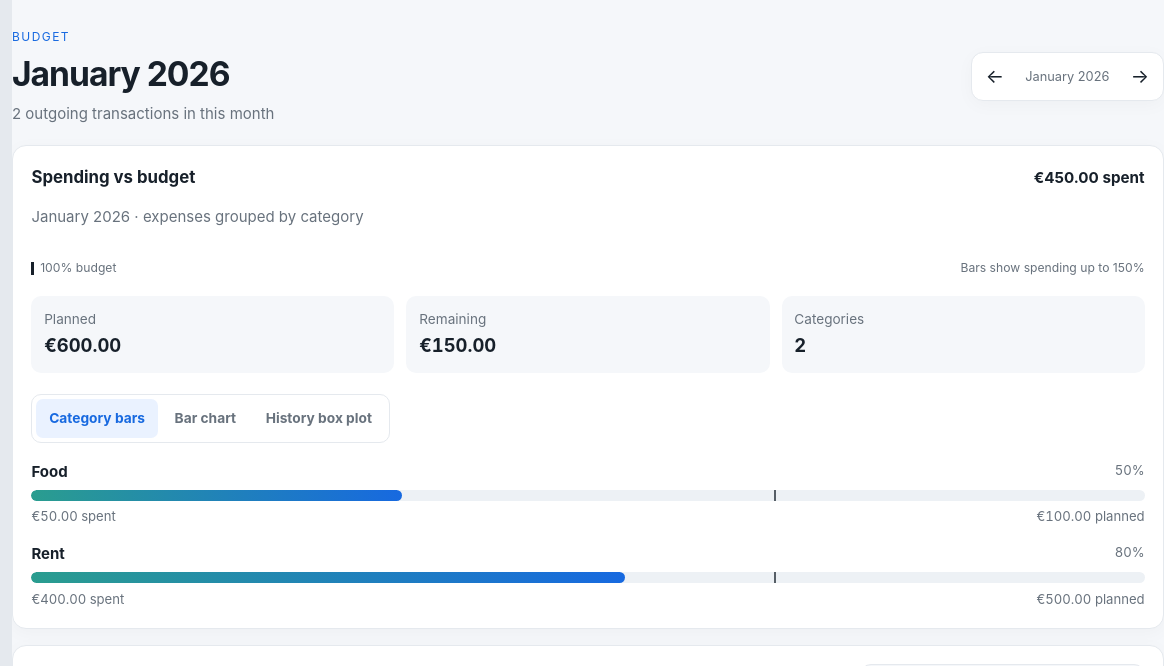
plan tab › can move to a future month without imported transactions
Click the button named "Next plan month". click: [1140, 77]
box: [1122,59,1157,94]
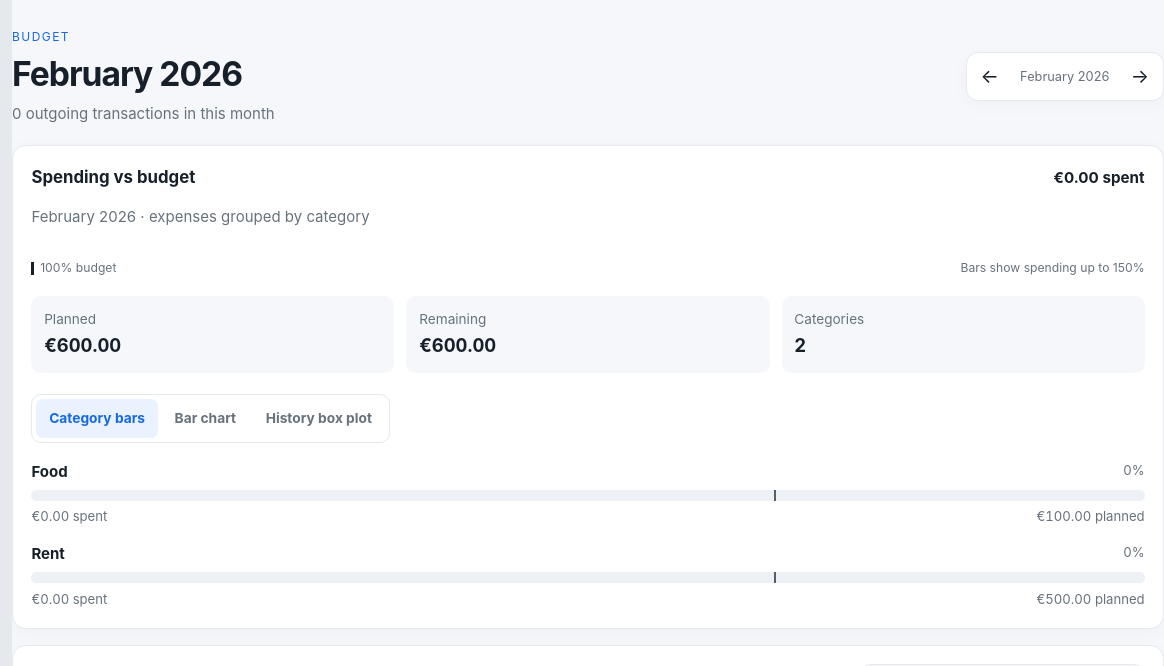
Expected: the heading "February 2026" is shown, [12,49,275,100]
Expected: the text "0 outgoing transactions in this month" is shown, [12,103,275,125]
